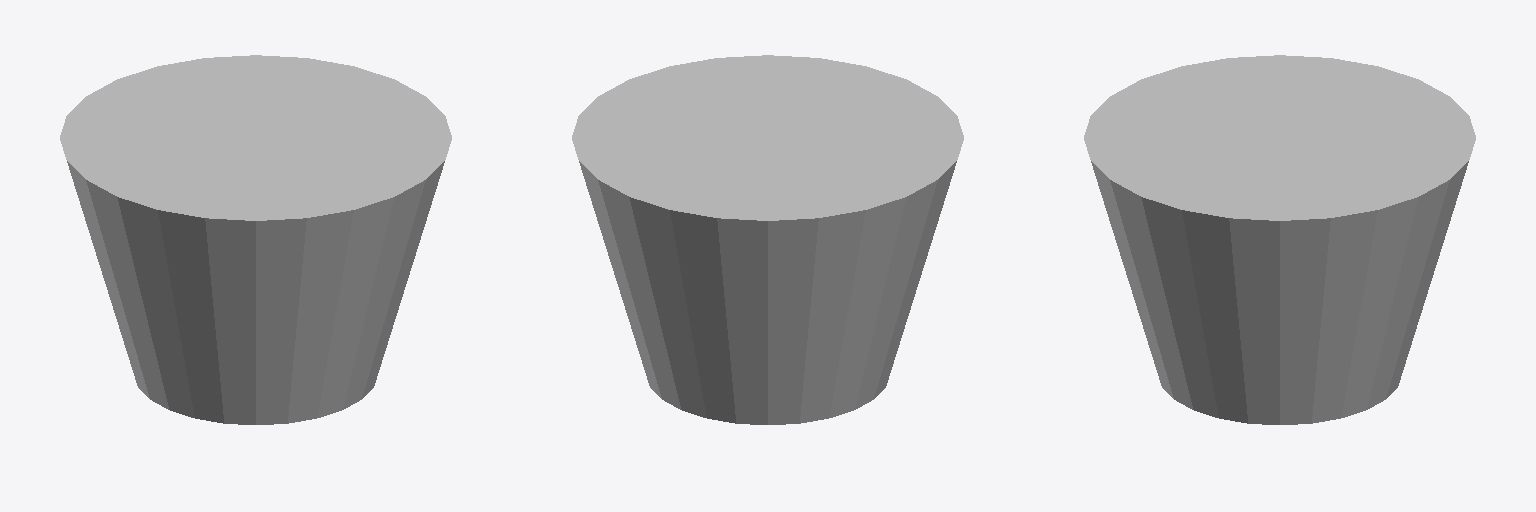
File: thanos 2.obj
3 renders of one model, left to right at view 1: azimuth 30°, elevation 25°; view 2: azimuth 150°, elevation 25°; view 3: azimuth 270°, elevation 25°, orthographic.
Parts seen in each view (by area): view 1: Cone001; view 2: Cone001; view 3: Cone001.
Part boxes in pixels (bbox=[...]): Cone001: bbox=[60, 55, 451, 424]; Cone001: bbox=[572, 55, 963, 424]; Cone001: bbox=[1084, 55, 1475, 424].
Size of the model in its own units: 29.46 by 19.51 by 29.46.